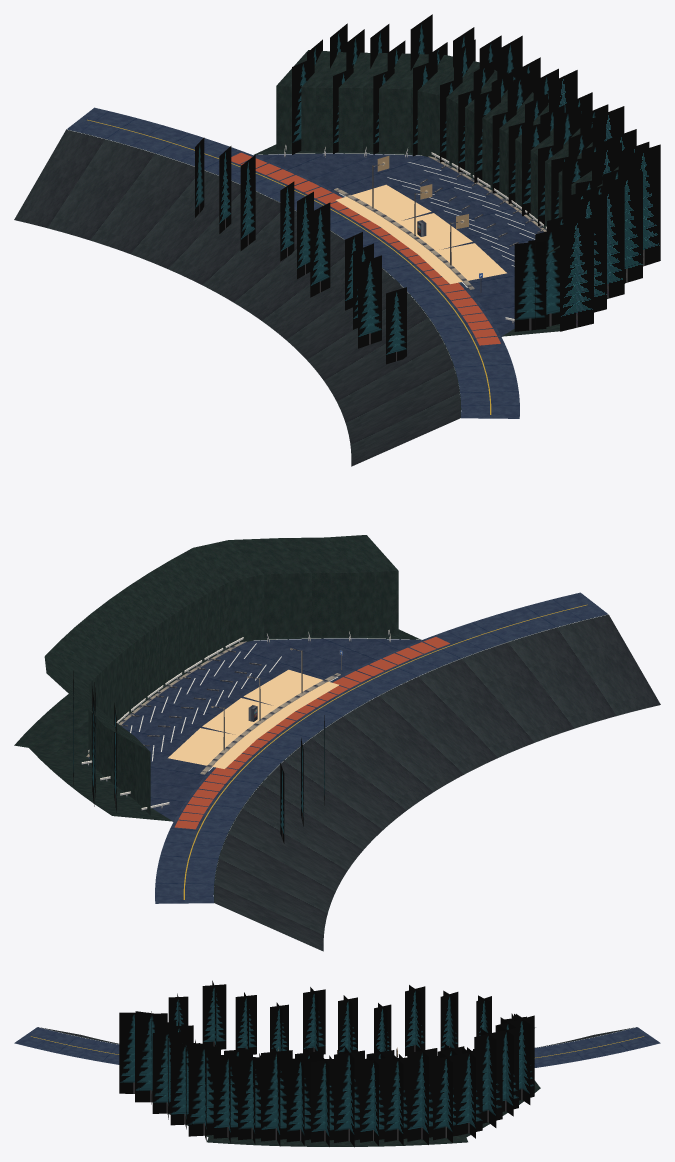
The model's file is lot_assembled_preview.glb.
3 renders of one model, top to bottom at view 1: azimuth 30°, elevation 25°; view 2: azimuth 150°, elevation 25°; view 3: azimuth 270°, elevation 25°, orthographic. The views are drawn at different scales.
Parts seen in each view (by area): view 1: lot_cut_slope, lot_forest_mass, lot_road_surface, lot_asphalt_mid, lot_cedar_card_4, lot_asphalt_exit, lot_cedar_card_2, lot_cedar_card_18, lot_cedar_card_15, lot_cedar_card_12, lot_cedar_card_8, lot_pool_decal_4 (+31 smaller); view 2: lot_cut_slope, lot_forest_mass, lot_road_surface, lot_asphalt_mid, lot_asphalt_entry, lot_verge_back, lot_verge_flank.001, lot_pool_decal_2, lot_pool_decal_4, lot_asphalt_exit, lot_pool_decal_3, lot_island_curb_run; view 3: lot_road_surface, lot_cedar_card_18, lot_cedar_card_50, lot_cedar_card_29, lot_cedar_card_39, lot_cedar_card_57, lot_cedar_card_32, lot_cedar_card_43, lot_cedar_card_22, lot_cedar_card_60, lot_cedar_card_46, lot_cedar_card_53 (+21 smaller).
Part boxes in pixels (left/top/right/bottom): lot_cut_slope: left=14, top=129, right=460, bottom=466; lot_forest_mass: left=276, top=50, right=618, bottom=254; lot_road_surface: left=66, top=107, right=519, bottom=418; lot_asphalt_mid: left=332, top=157, right=543, bottom=290; lot_cedar_card_4: left=560, top=217, right=593, bottom=331; lot_asphalt_exit: left=253, top=153, right=426, bottom=189; lot_cedar_card_2: left=514, top=241, right=546, bottom=331; lot_cedar_card_18: left=626, top=144, right=660, bottom=266; lot_cedar_card_15: left=610, top=171, right=642, bottom=282; lot_cedar_card_12: left=358, top=255, right=381, bottom=348; lot_cedar_card_8: left=570, top=192, right=606, bottom=312; lot_pool_decal_4: left=335, top=184, right=431, bottom=226; lot_cut_slope: left=214, top=614, right=660, bottom=951; lot_forest_mass: left=44, top=535, right=398, bottom=815; lot_road_surface: left=155, top=592, right=607, bottom=903; lot_asphalt_mid: left=89, top=641, right=342, bottom=775; lot_asphalt_entry: left=249, top=638, right=421, bottom=674; lot_verge_back: left=14, top=643, right=238, bottom=756; lot_verge_flank.001: left=29, top=748, right=172, bottom=821; lot_pool_decal_2: left=243, top=669, right=338, bottom=710; lot_pool_decal_4: left=168, top=728, right=256, bottom=768; lot_asphalt_exit: left=88, top=757, right=204, bottom=821; lot_pool_decal_3: left=202, top=698, right=294, bottom=738; lot_island_curb_run: left=202, top=674, right=337, bottom=772; lot_road_surface: left=14, top=1027, right=660, bottom=1067; lot_cedar_card_18: left=188, top=1041, right=220, bottom=1141; lot_cedar_card_50: left=407, top=1045, right=437, bottom=1144; lot_cedar_card_29: left=261, top=1045, right=292, bottom=1146; lot_cedar_card_39: left=334, top=1046, right=364, bottom=1147; lot_cedar_card_57: left=456, top=1047, right=482, bottom=1138; lot_cedar_card_32: left=286, top=1054, right=315, bottom=1145; lot_cedar_card_43: left=360, top=1054, right=387, bottom=1145; lot_cedar_card_22: left=213, top=1051, right=243, bottom=1142; lot_cedar_card_60: left=474, top=1028, right=502, bottom=1127; lot_cedar_card_46: left=384, top=1053, right=407, bottom=1145; lot_cedar_card_53: left=433, top=1051, right=459, bottom=1143.
Size of what is drawn, in the model's own units: 59.81 by 23.4 by 108.
22 materials, 22 textured.
